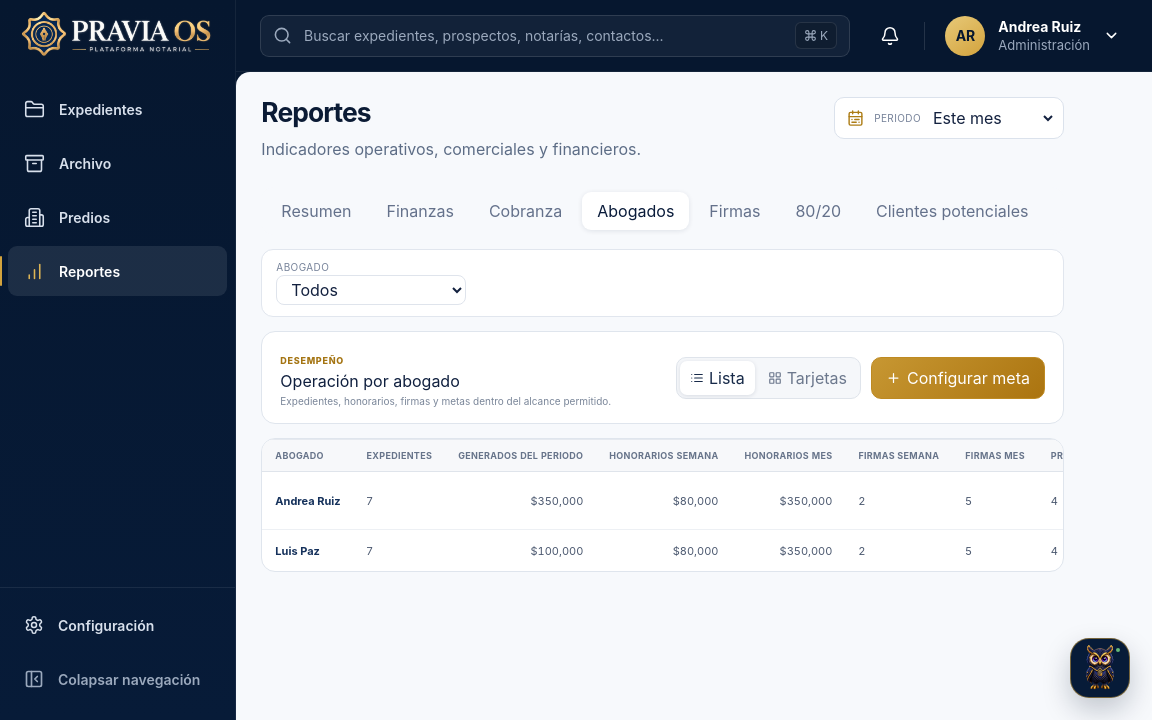
Test case: Reportes › Abogados alterna Lista/Tarjetas, persiste preferencia y aloja metas sólo aquí
Check: the heading "Operación por abogado" is shown, box [280,371,460,391]
Check: the column heading "Honorarios semana" is shown, box [596,440,732,472]
Step 1. Click the button "Tarjetas" → {"x": 807, "y": 378}, box [758,361,857,395]
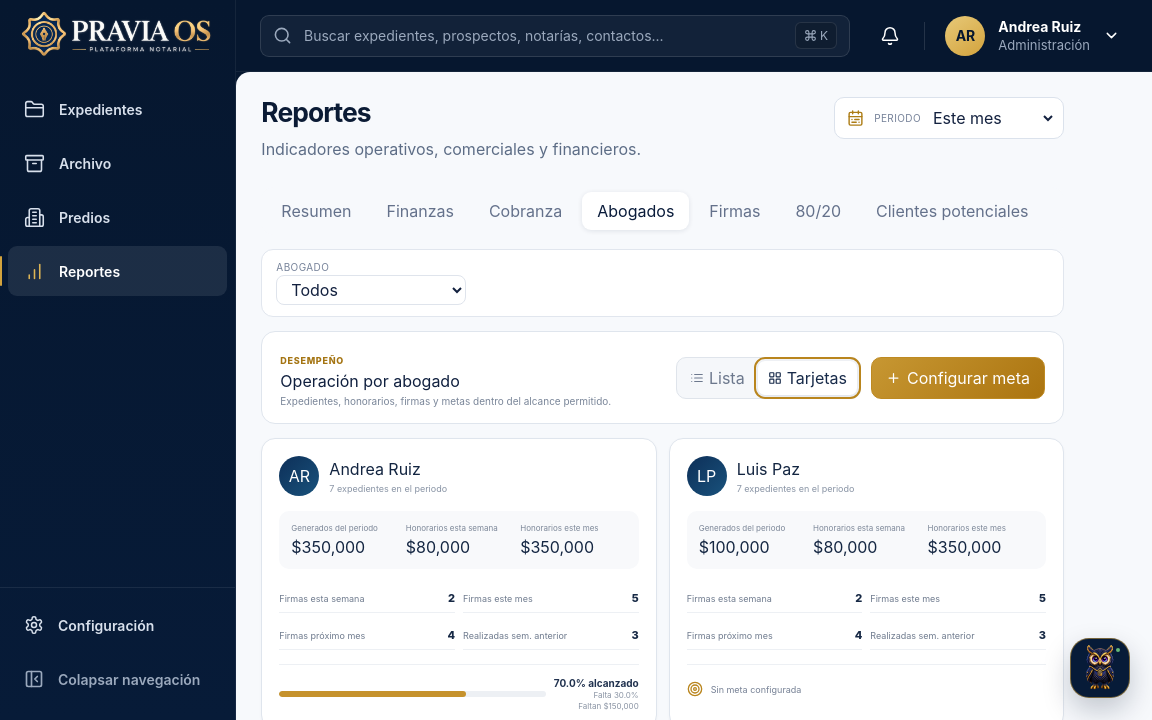
Check: the 1st text "Honorarios esta semana" is shown, box [406,523,512,533]
Check: the 1st text "Honorarios este mes" is shown, box [520,523,598,533]
